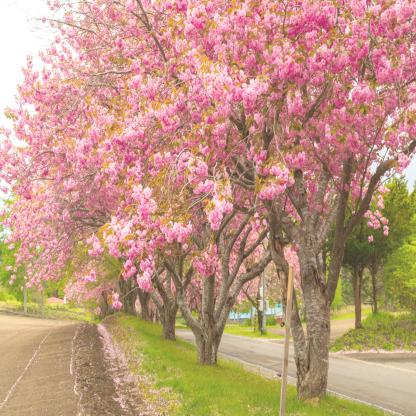YaeSakura: (0, 2, 286, 330), (274, 0, 416, 322), (132, 140, 190, 332), (118, 175, 165, 320), (99, 199, 140, 313), (63, 270, 112, 318)
